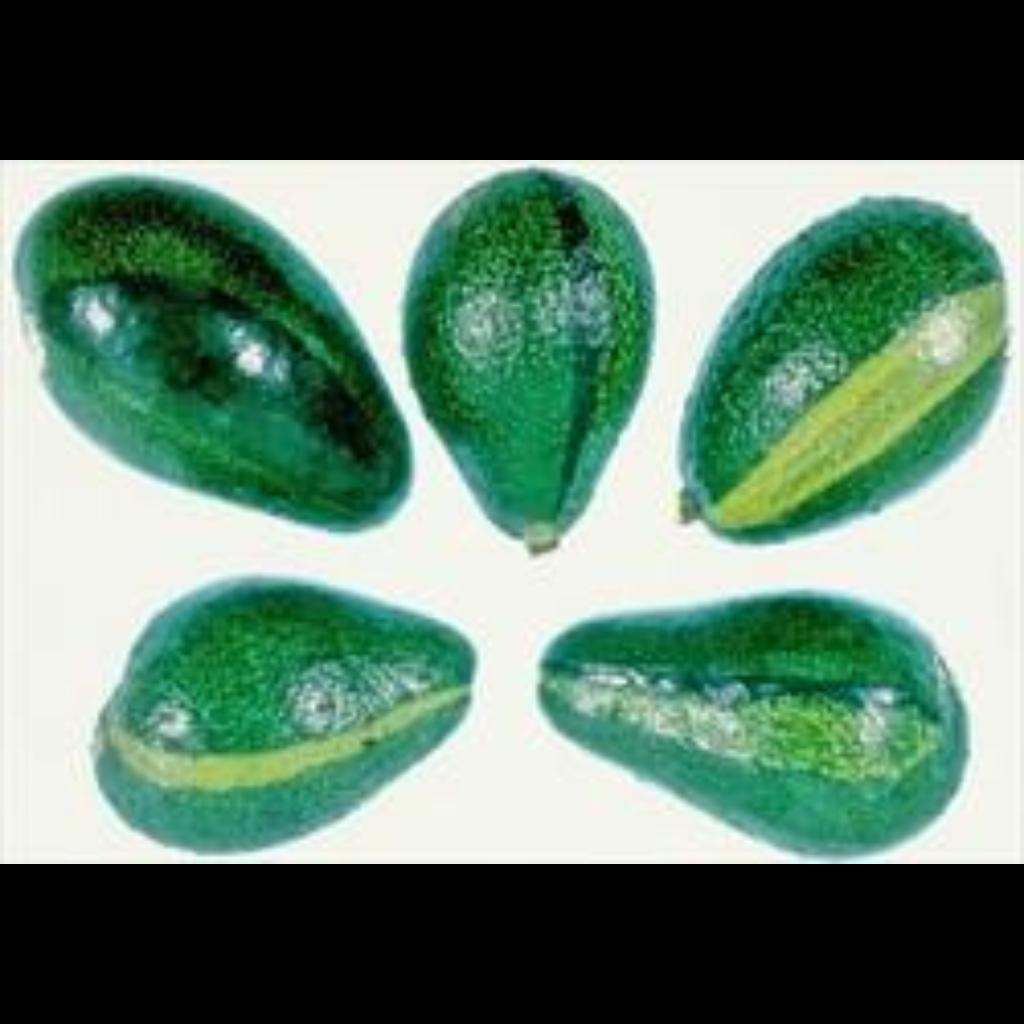sunblotch: (467, 496, 963, 824), (0, 160, 386, 508), (578, 214, 1016, 508), (264, 196, 662, 496), (21, 545, 455, 819)
